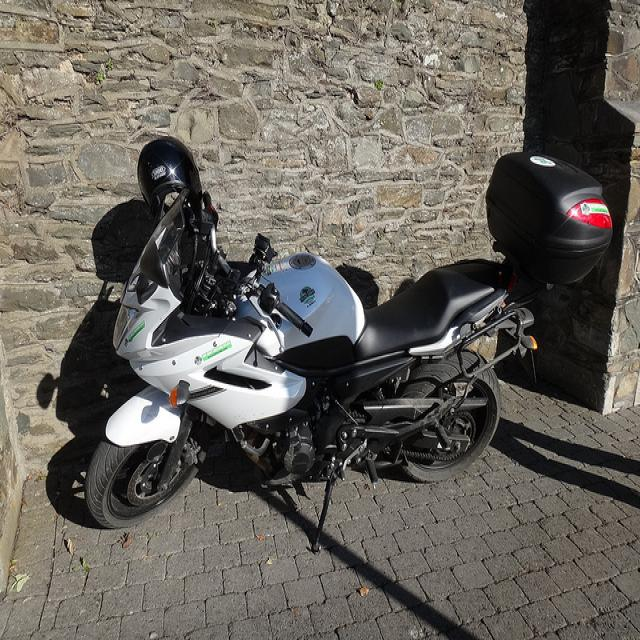motor: (86, 177, 535, 537)
